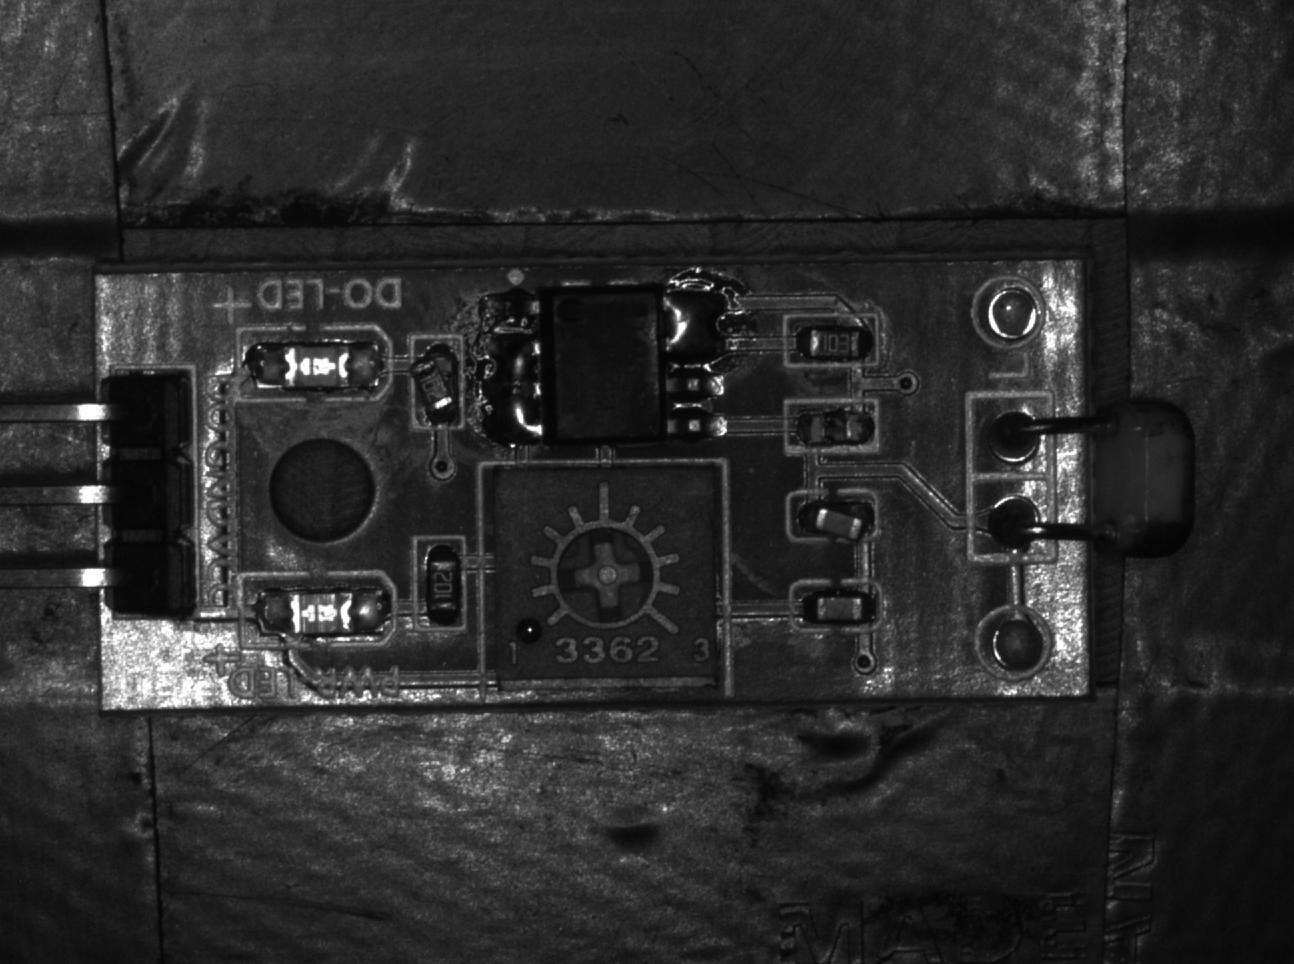bridge: (477, 329, 539, 449), (663, 283, 727, 365)
lifted: (409, 336, 464, 429), (786, 489, 878, 543)
miss: (784, 399, 880, 453)
ok: (784, 312, 880, 367), (790, 580, 883, 634), (416, 535, 466, 632)
